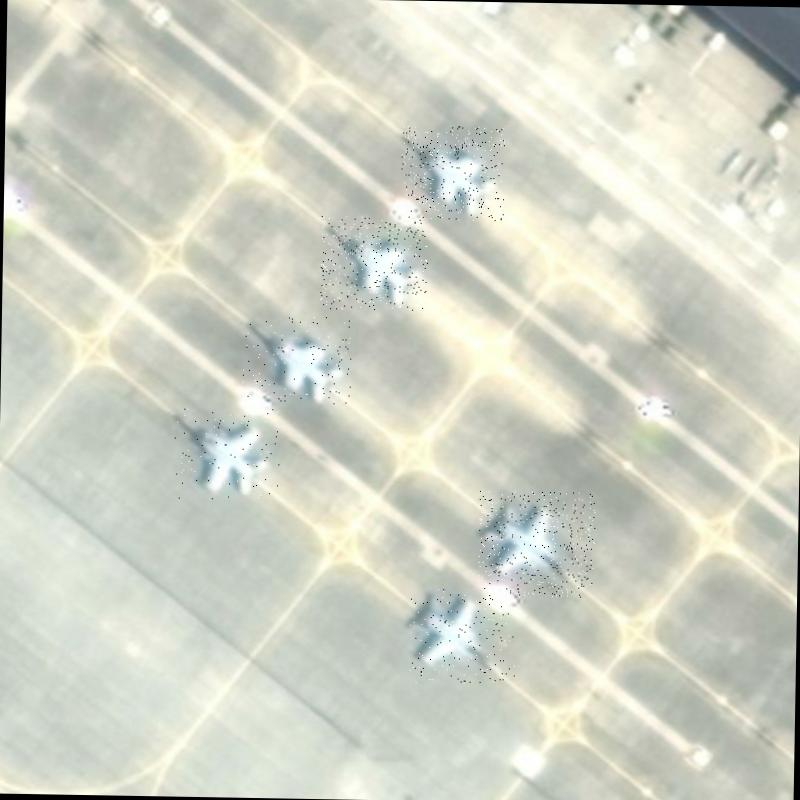A16: (478, 490, 596, 598), (408, 588, 516, 684), (320, 215, 428, 310), (400, 125, 505, 221), (173, 407, 280, 500), (242, 315, 351, 404)
